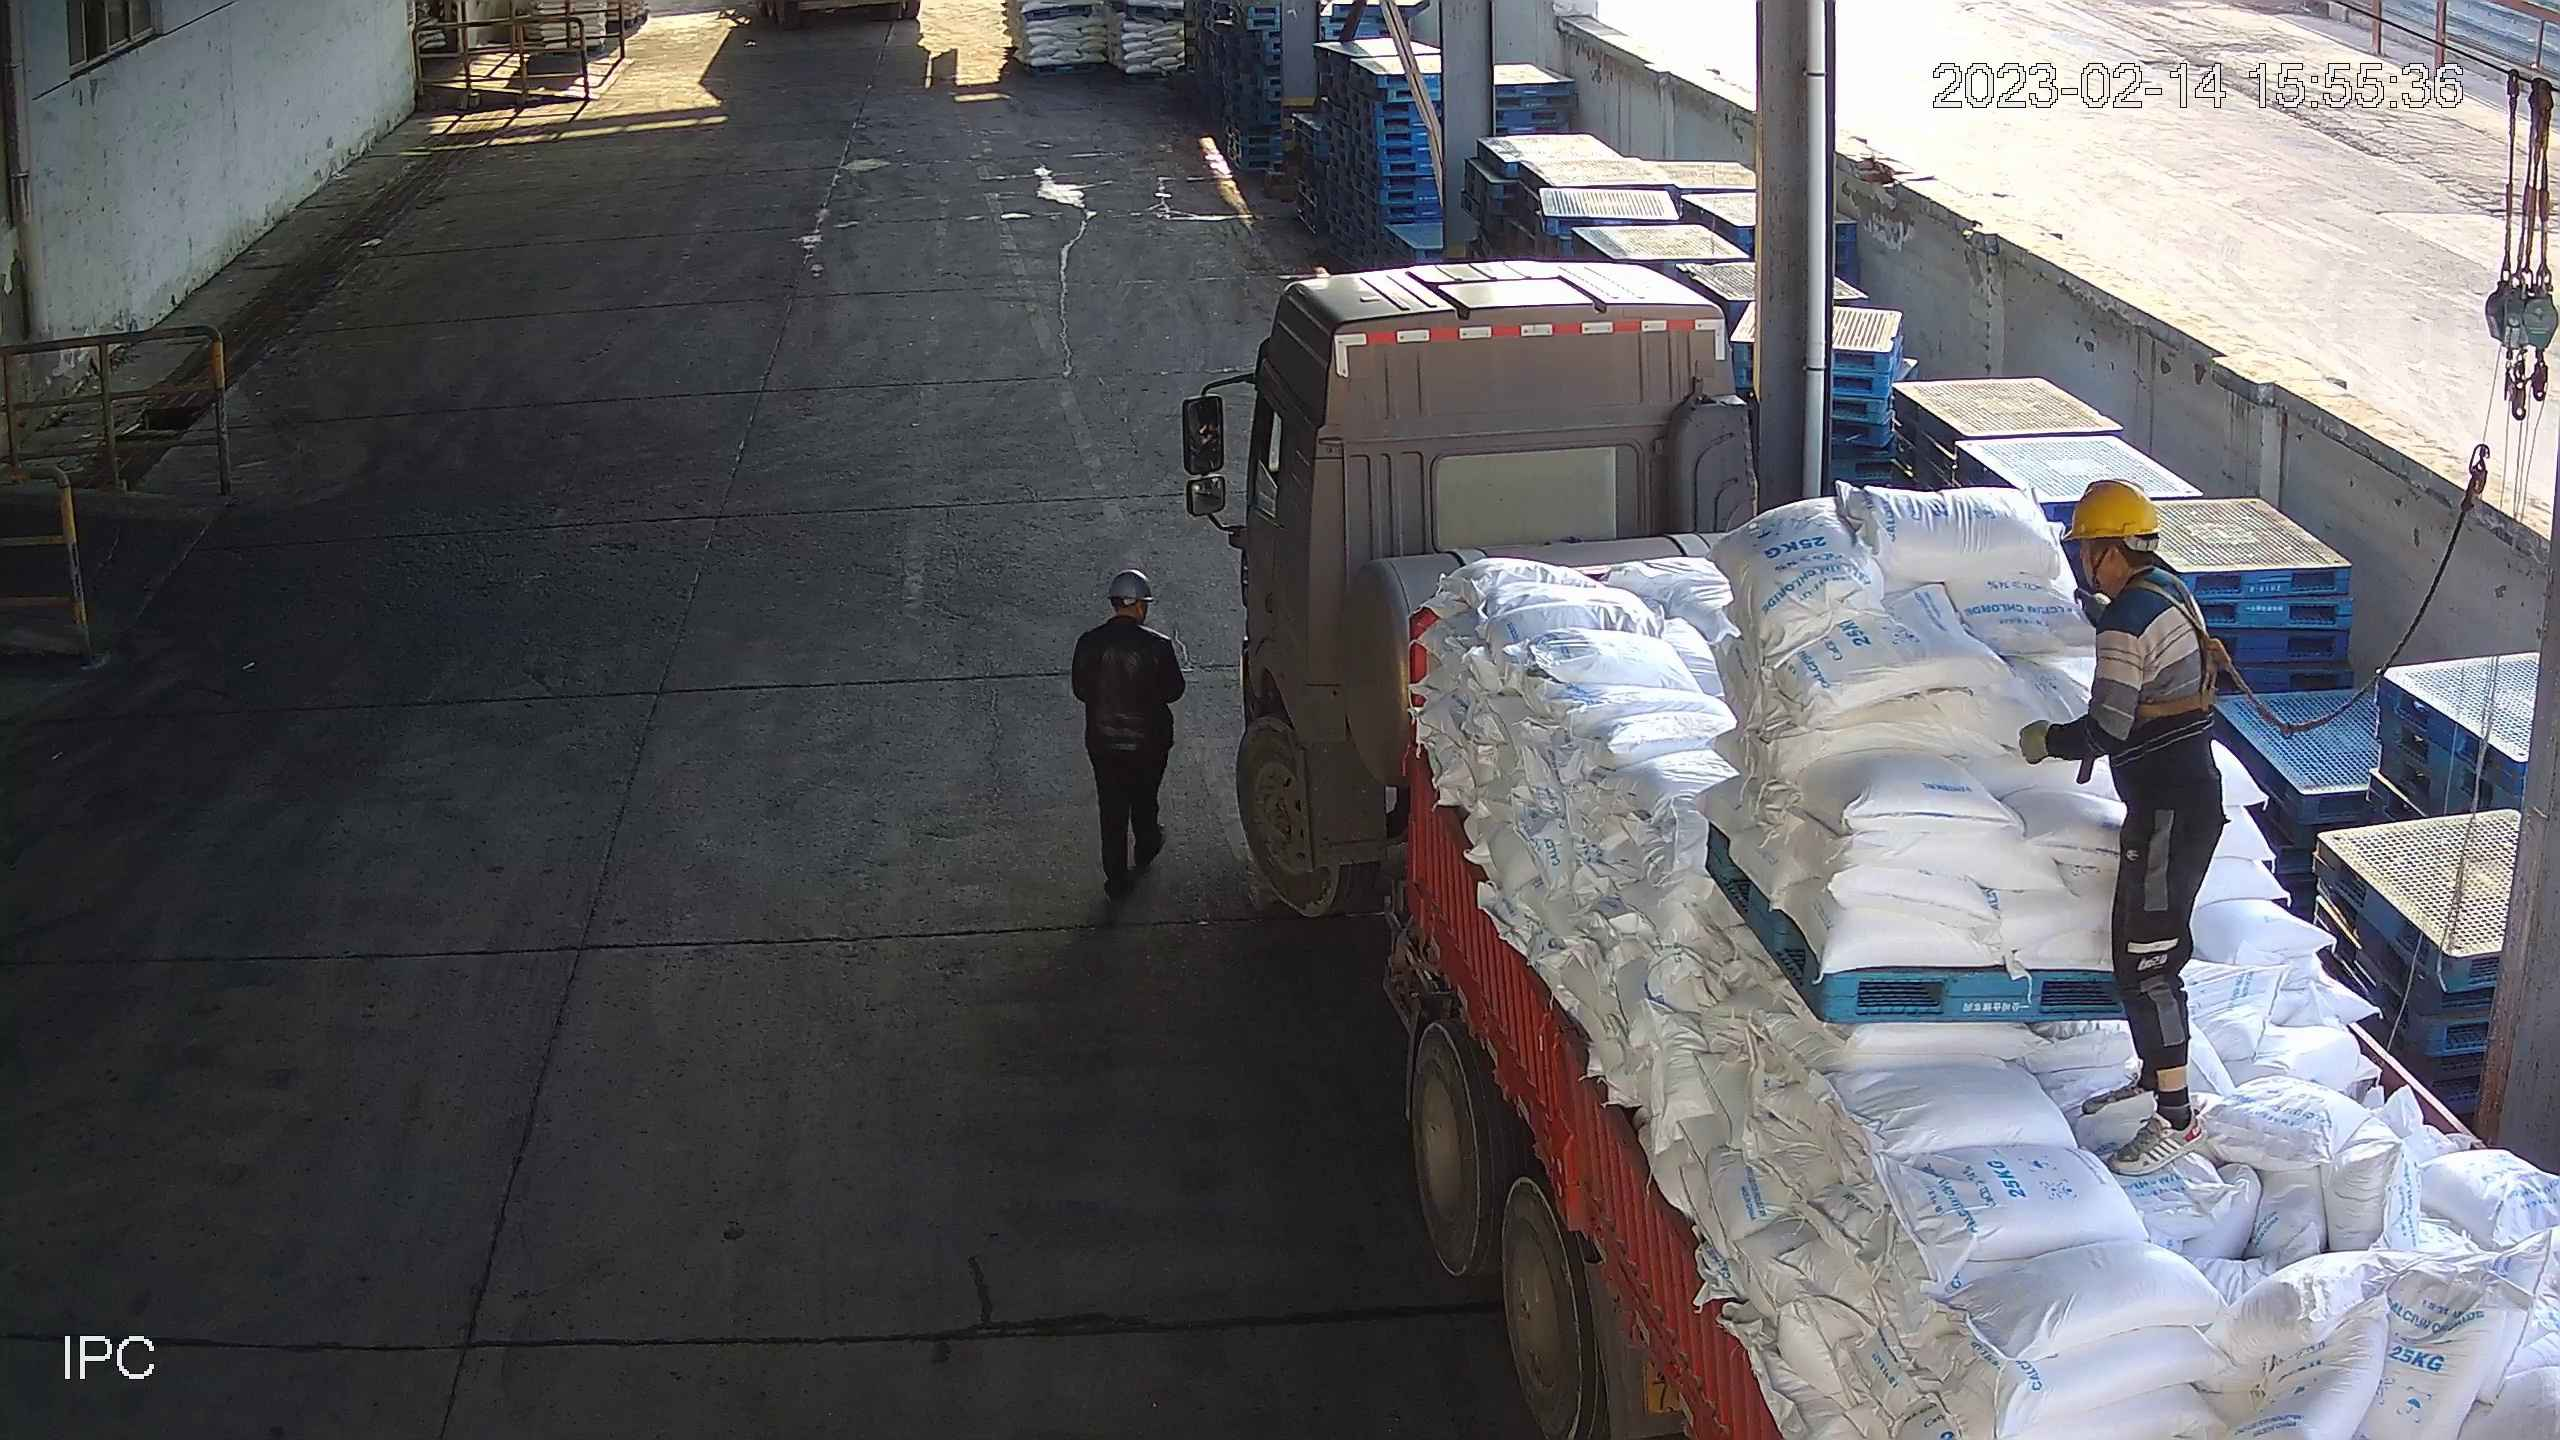belt: (2132, 576, 2241, 715)
head: (2058, 483, 2204, 639), (1079, 564, 1172, 660)
helmet: (2065, 481, 2158, 543), (1106, 565, 1151, 601)
people: (2018, 481, 2225, 1174), (1070, 567, 1188, 893)
truck: (1184, 267, 2560, 1440)
